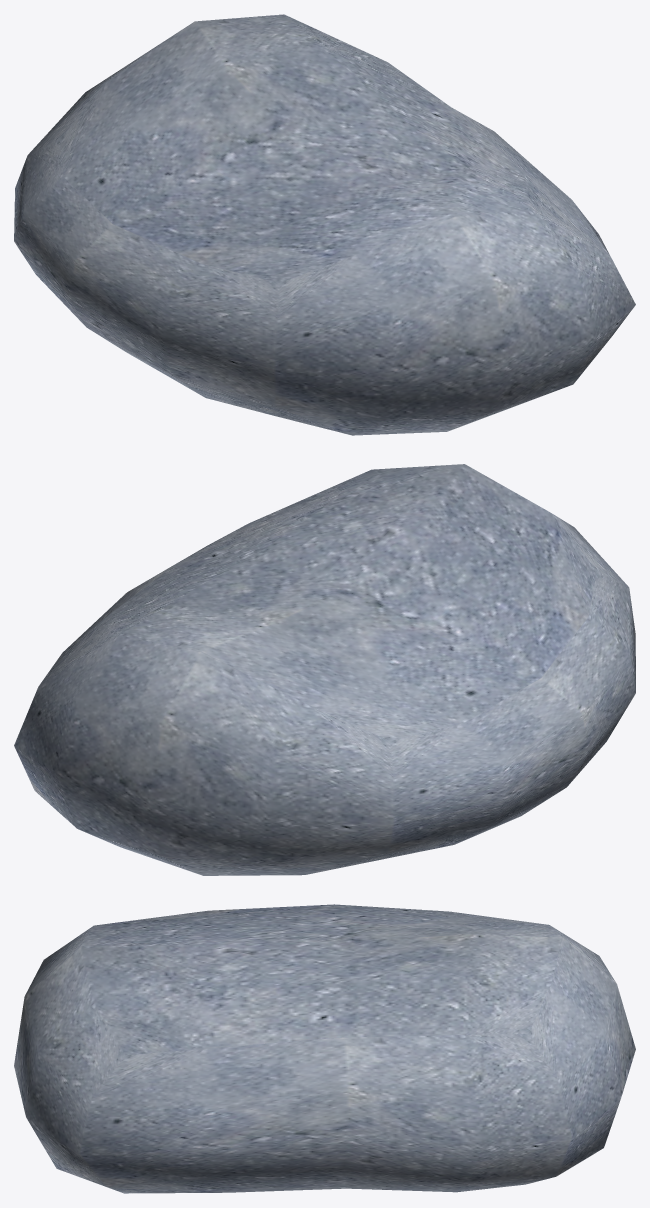
The model's file is Riverstone3.fbx.
The picture shows the model from 3 angles, top to bottom: view 1: azimuth 30°, elevation 25°; view 2: azimuth 150°, elevation 25°; view 3: azimuth 270°, elevation 25°; orthographic projection. The views are drawn at different scales.
Visible parts, largest first — view 1: Riverstone3; view 2: Riverstone3; view 3: Riverstone3.
Boxes of the visible parts, x1,y1,x2,y2 form: Riverstone3: [14, 14, 635, 435]; Riverstone3: [14, 464, 635, 875]; Riverstone3: [14, 904, 635, 1193].
Size of the model in its own units: 77.59 by 39.38 by 97.41.
Materials: 1 (1 with a texture image).
